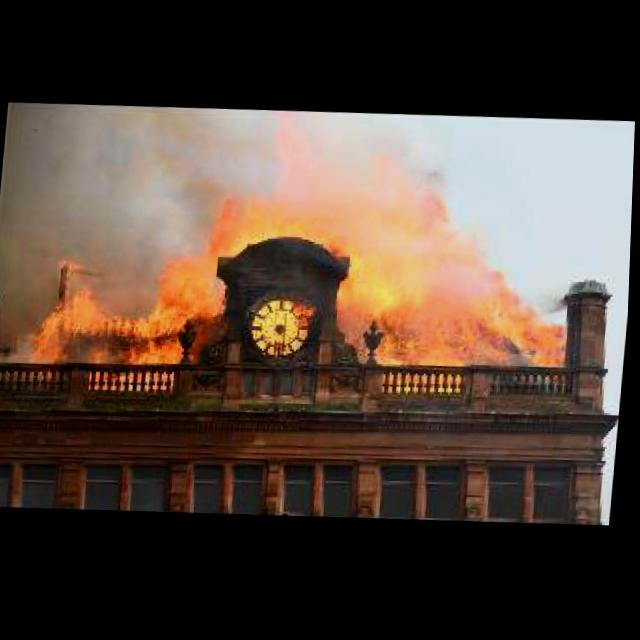helmet: (21, 129, 580, 397)
